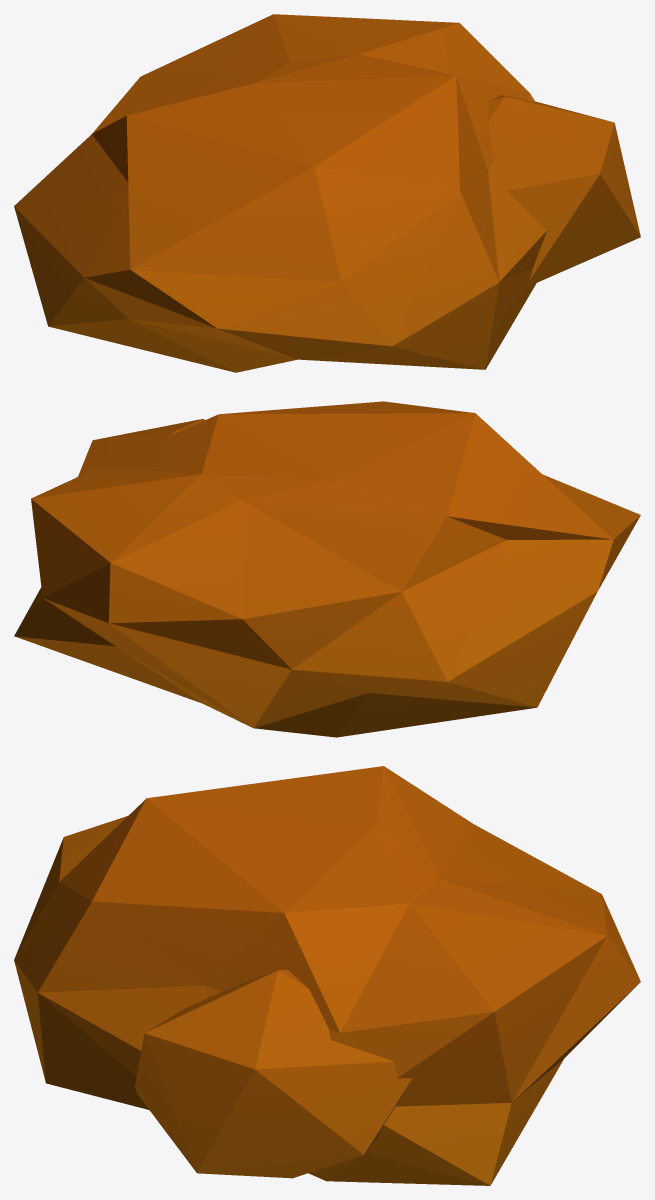
Rendered from SM_Nature_Rocher_B.fbx.
The picture shows the model from 3 angles, top to bottom: view 1: azimuth 30°, elevation 25°; view 2: azimuth 150°, elevation 25°; view 3: azimuth 270°, elevation 25°; orthographic projection. The views are drawn at different scales.
Parts seen in each view (by area): view 1: SM_Nature_Rocher_B_LOD0; view 2: SM_Nature_Rocher_B_LOD0; view 3: SM_Nature_Rocher_B_LOD0.
Boxes of the visible parts, x1=… form: SM_Nature_Rocher_B_LOD0: x1=14, y1=14, x2=640, y2=372; SM_Nature_Rocher_B_LOD0: x1=14, y1=401, x2=640, y2=737; SM_Nature_Rocher_B_LOD0: x1=14, y1=766, x2=640, y2=1185.
Size of what is drawn, in the model's own units: 1.83 by 0.8743 by 1.72.
